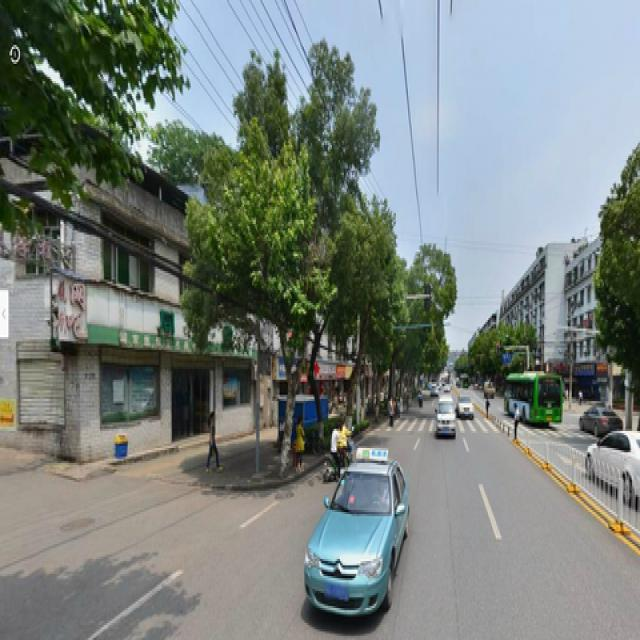meta: (230, 173, 314, 471)
